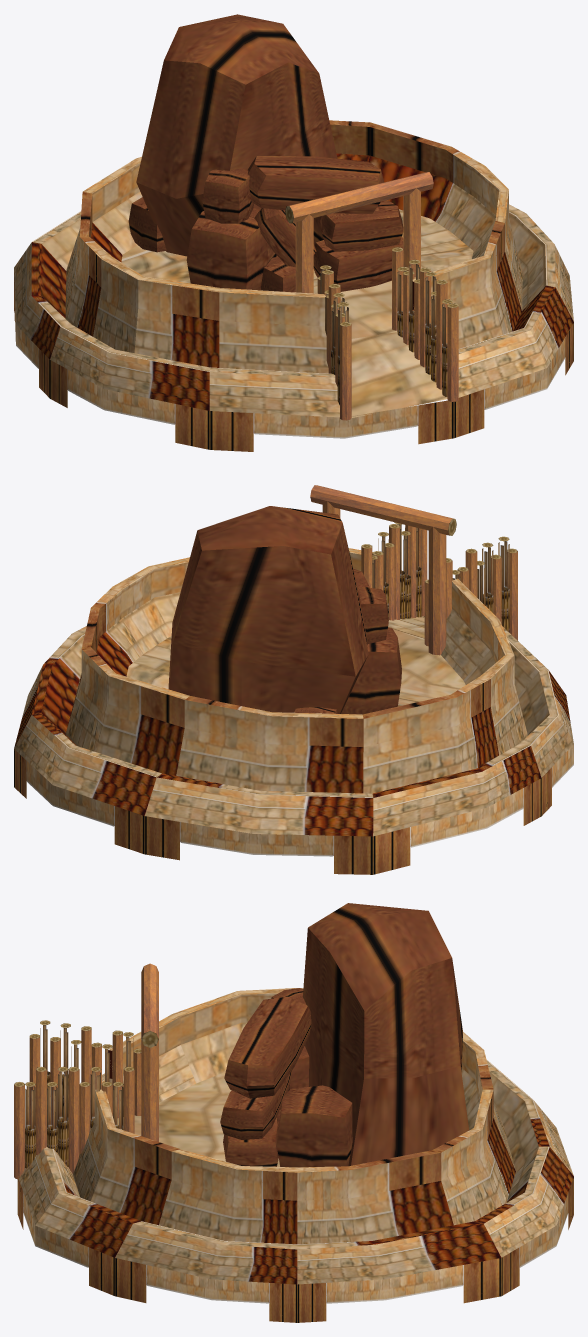
The model's file is editor_stone_of_divisions.dae.
3 views of the same model, one above another, from view 1: azimuth 30°, elevation 25°; view 2: azimuth 150°, elevation 25°; view 3: azimuth 270°, elevation 25° (orthographic).
Parts seen in each view (by area): view 1: editor_stone_of_divisions; view 2: editor_stone_of_divisions; view 3: editor_stone_of_divisions.
Boxes of the visible parts, x1,y1,x2,y2 form: editor_stone_of_divisions: (14,14,573,451); editor_stone_of_divisions: (14,485,573,874); editor_stone_of_divisions: (14,903,573,1322).
Size of the model in its own units: 21.46 by 21.65 by 12.15.
